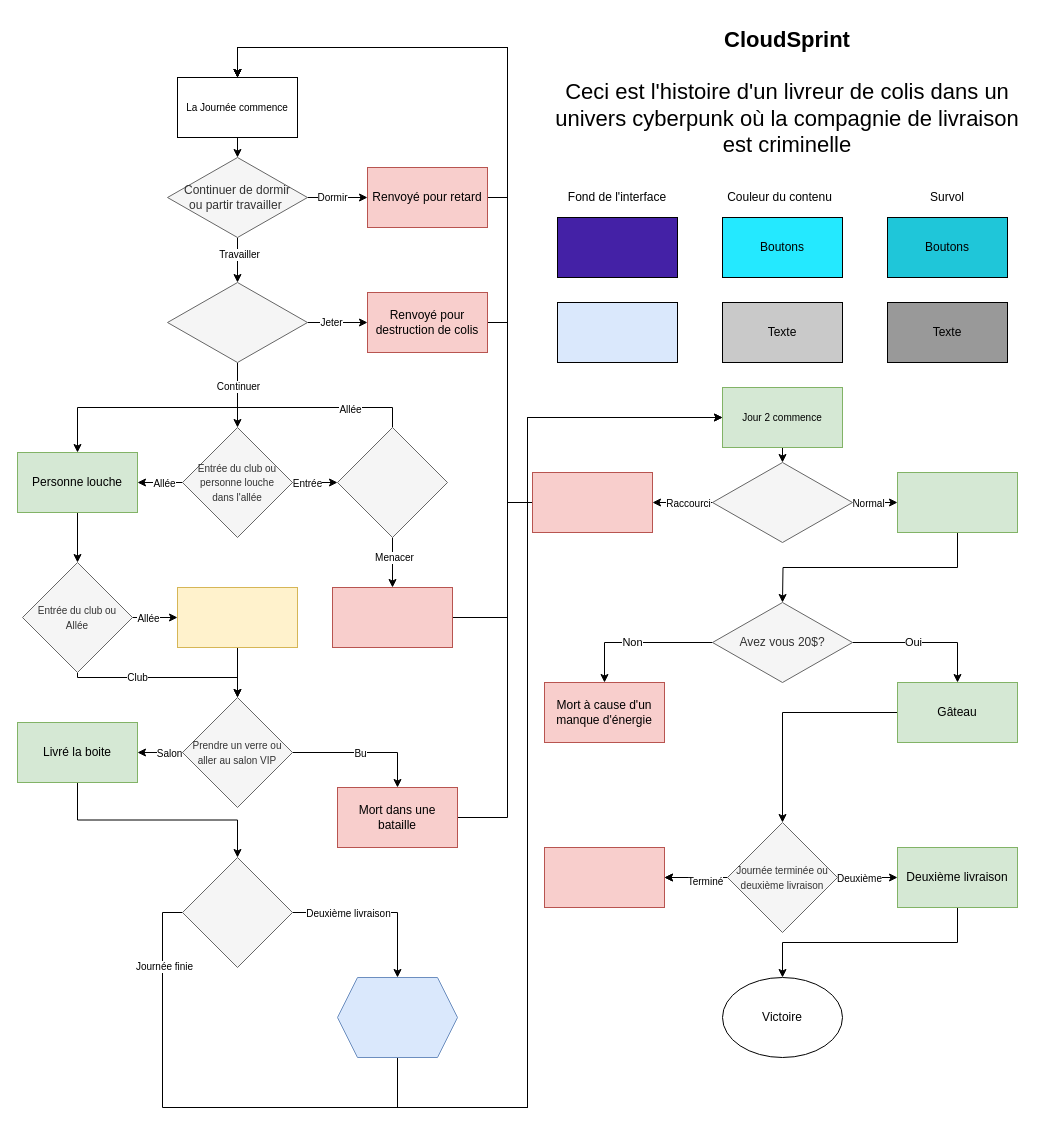
Image size: 1055x1133. Some labels were removed from this diagram. Each missing label, with the centre of its shape:
"Allée vide" goes at [237,617].
"Chemin normal" goes at [957,502].
"Deuxième livraison ou journée finie." goes at [237,912].
"Jeter la boîte qui fait tic tac ou continuer" goes at [237,322].
"Journée terminée" goes at [604,877].
"Le colis explose" goes at [592,502].
"Menacer le garde ou aller voir la personne louche dans l'allée" goes at [392,482].
"Obtenu 20$ en bonus" goes at [397,1017].
"Prendre un raccourci ou prendre le chemin normal" goes at [782,502].
"Tué par le garde" goes at [392,617].
